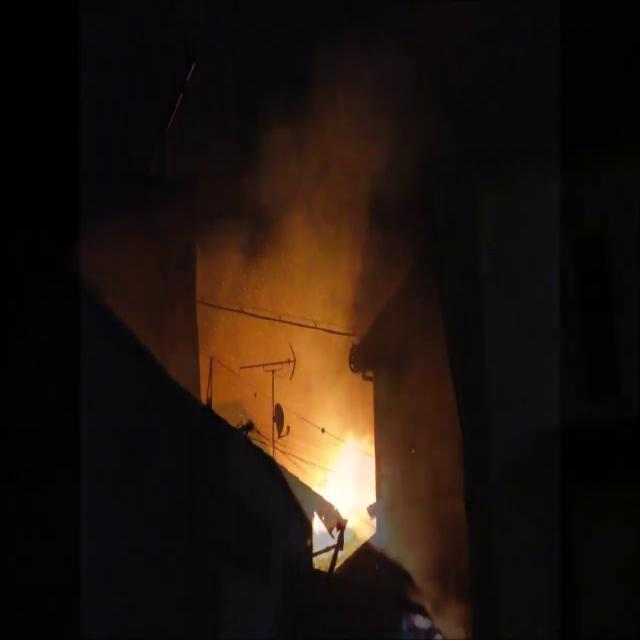Fire: (310, 410, 382, 524)
Smoke: (202, 53, 414, 483)
